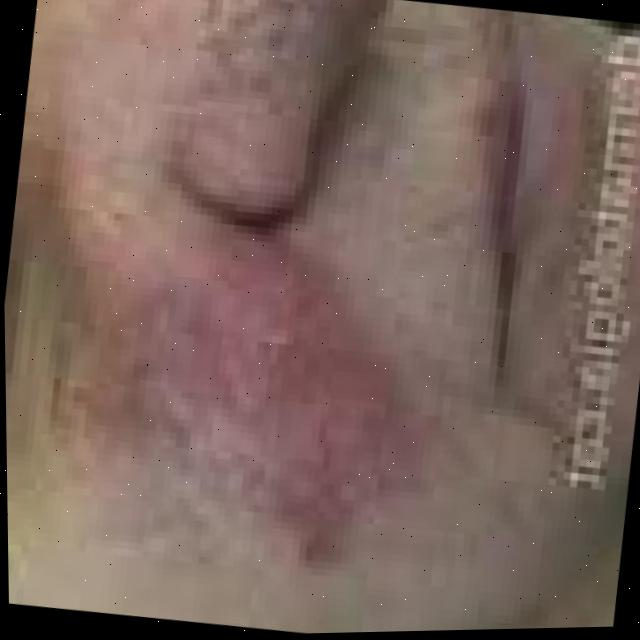Rosacea: (81, 217, 445, 593)
